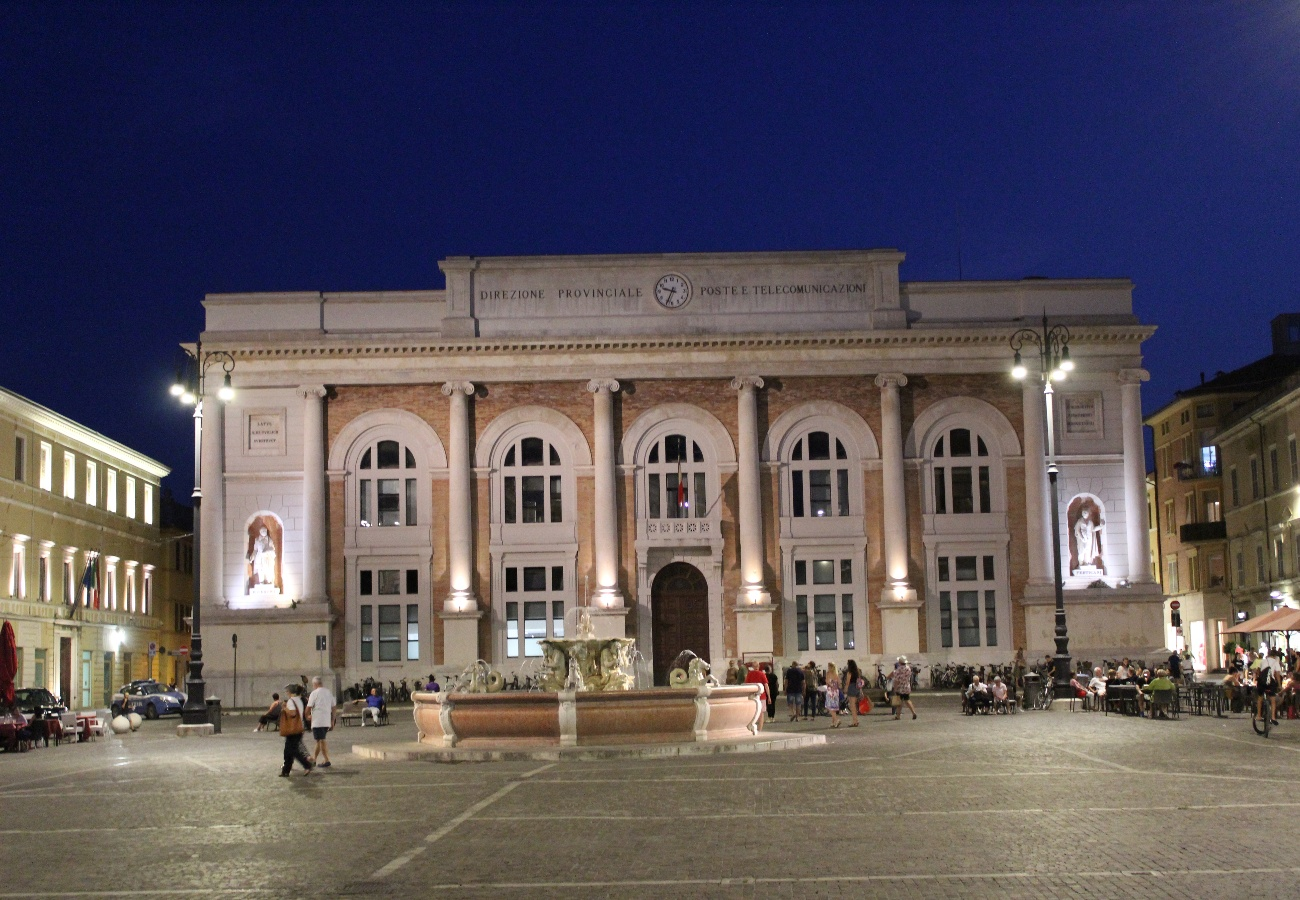Palazzo delle Poste: (191, 247, 1157, 716)
